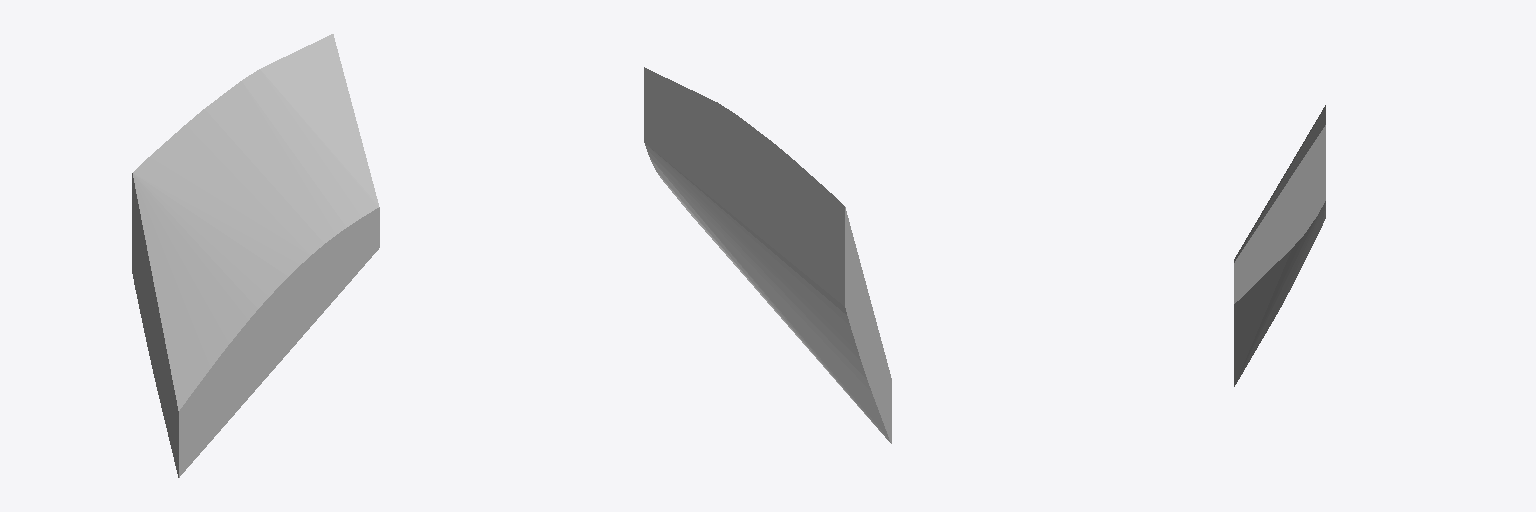
The model's file is phantom-elastrat_collision_450.obj.
3 views of the same model, side by side, from view 1: azimuth 30°, elevation 25°; view 2: azimuth 150°, elevation 25°; view 3: azimuth 270°, elevation 25° (orthographic).
Bounding box in the file's own units: 0.0125 × 0.0216 × 0.005.